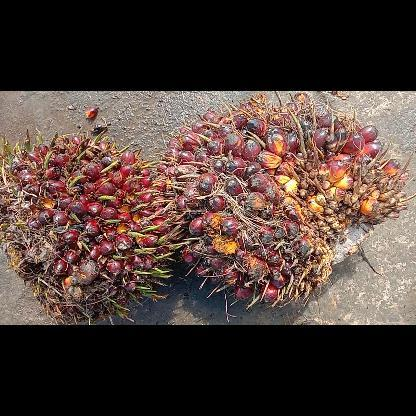Kurang masak: (0, 129, 187, 325)
TBS masak: (156, 95, 414, 309)
